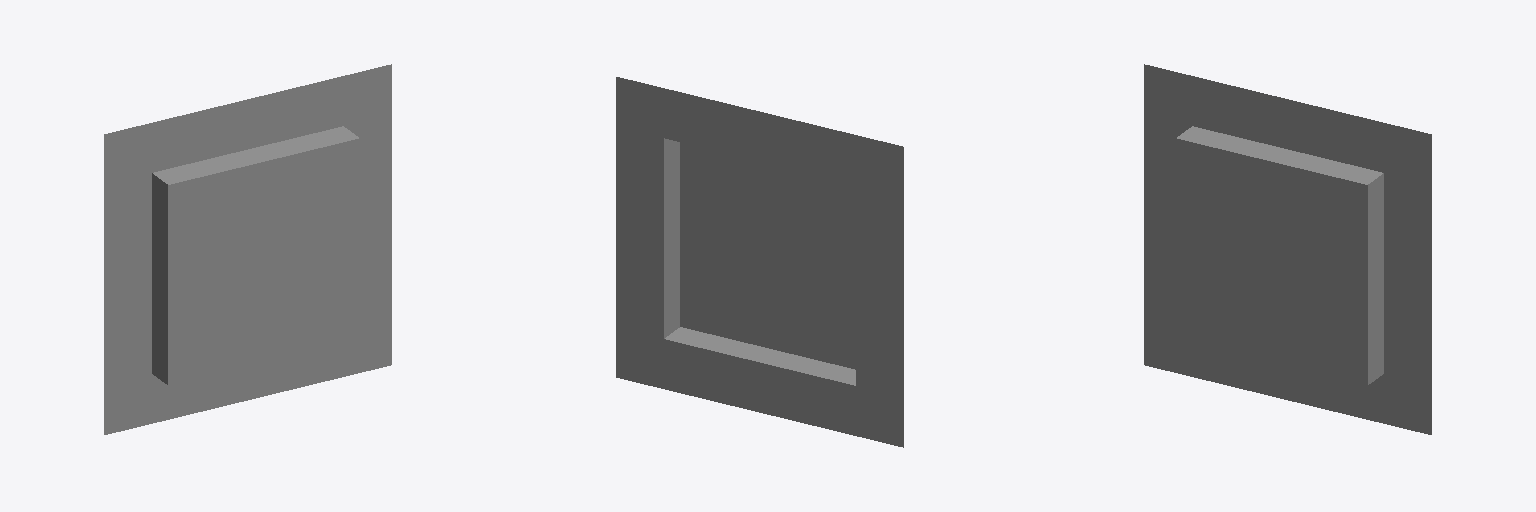
The model's file is wall.obj.
3 renders of one model, left to right at view 1: azimuth 30°, elevation 25°; view 2: azimuth 150°, elevation 25°; view 3: azimuth 330°, elevation 25°, orthographic.
Visible parts, largest first — view 1: Wall; view 2: Wall; view 3: Wall.
Boxes of the visible parts, <box> form: Wall: <box>104,64,391,434</box>; Wall: <box>616,77,903,447</box>; Wall: <box>1144,64,1431,434</box>.
Bounding box in the file's own units: 1 × 1 × 0.1.